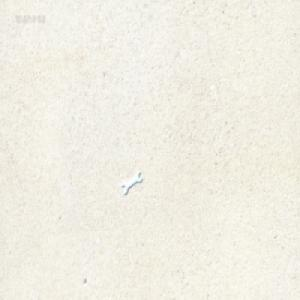Wrench: (121, 170, 142, 196)
